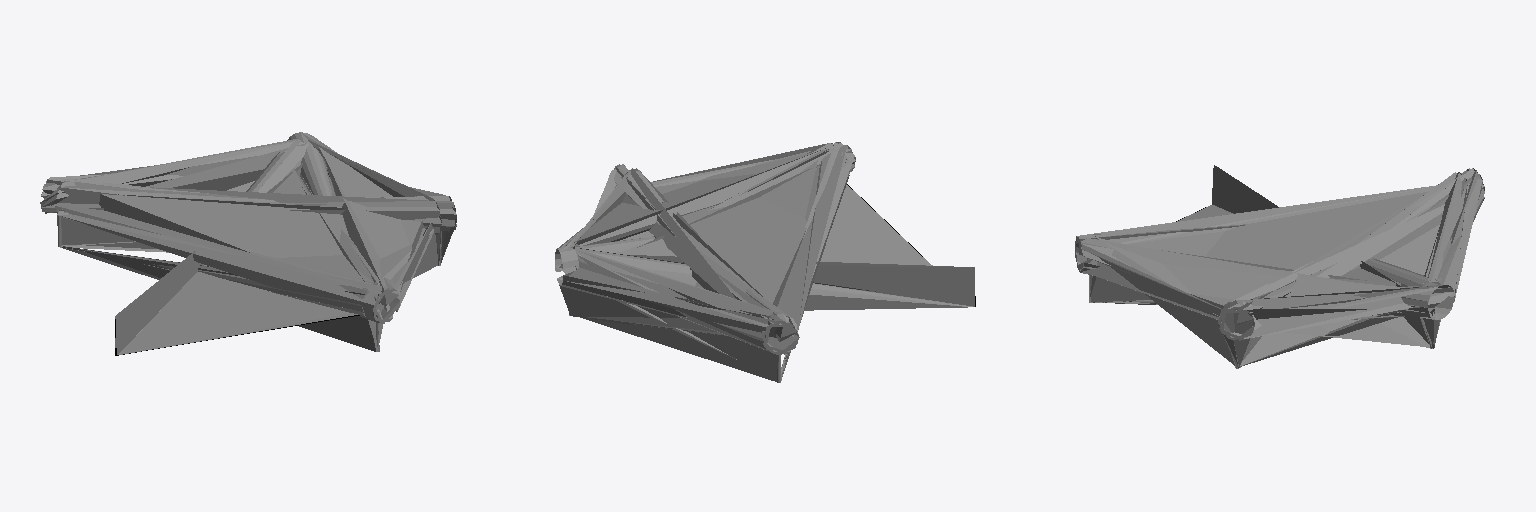
The model's file is Drum.obj.
The picture shows the model from 3 angles: view 1: azimuth 30°, elevation 25°; view 2: azimuth 150°, elevation 25°; view 3: azimuth 270°, elevation 25°; orthographic projection.
Visible parts, largest first — view 1: Cylinder001; view 2: Cylinder001; view 3: Cylinder001.
Part boxes in pixels (x1,y1,x2,y2): Cylinder001: (40, 132, 456, 355); Cylinder001: (555, 142, 975, 381); Cylinder001: (1075, 165, 1484, 368).
Bounding box in the file's own units: 649021 × 117559 × 662766.